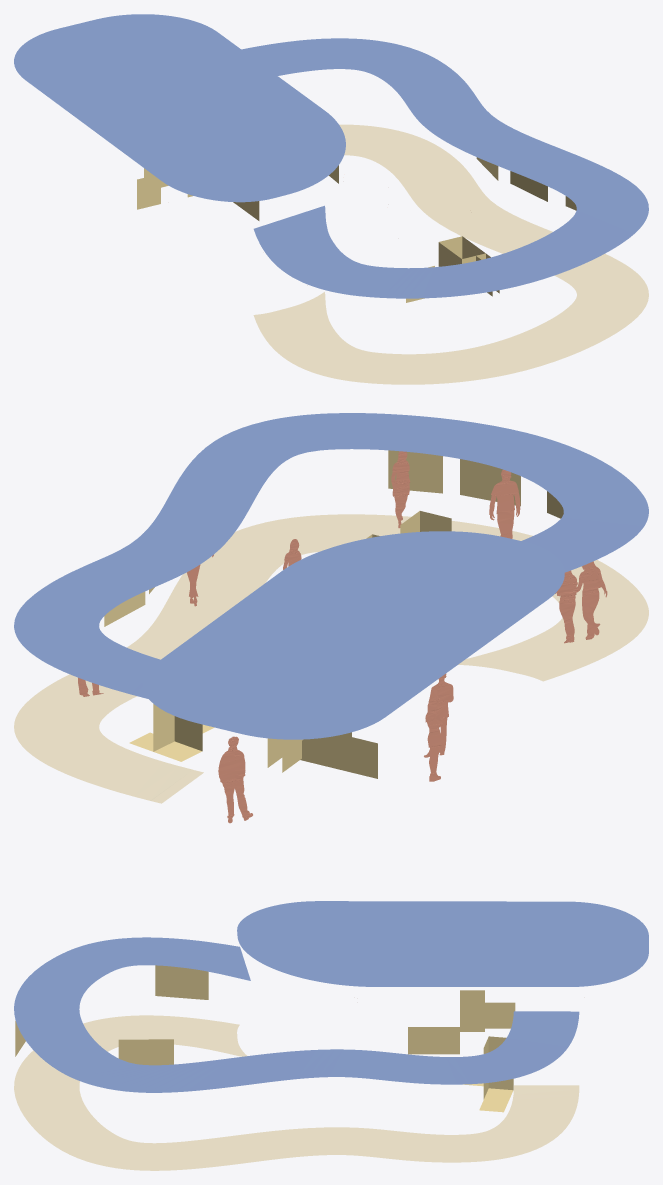
File: exhibition_model.glb
3 renders of one model, top to bottom at view 1: azimuth 30°, elevation 25°; view 2: azimuth 150°, elevation 25°; view 3: azimuth 270°, elevation 25°, orthographic. The views are drawn at different scales.
Parts seen in each view (by area): view 1: roof, EXHIBITION SPACE, furn; view 2: roof, EXHIBITION SPACE, furn, people; view 3: roof, EXHIBITION SPACE, furn.
Part boxes in pixels (x1,y1,x2,y2): roof: [14, 14, 648, 298]; EXHIBITION SPACE: [253, 124, 648, 384]; furn: [137, 157, 576, 302]; roof: [14, 413, 648, 739]; EXHIBITION SPACE: [14, 514, 648, 803]; furn: [104, 450, 563, 778]; people: [78, 451, 607, 823]; roof: [14, 901, 648, 1092]; EXHIBITION SPACE: [14, 1015, 579, 1170]; furn: [15, 965, 515, 1112].
Size of the model in its own units: 9.67 by 2.81 by 15.51.
